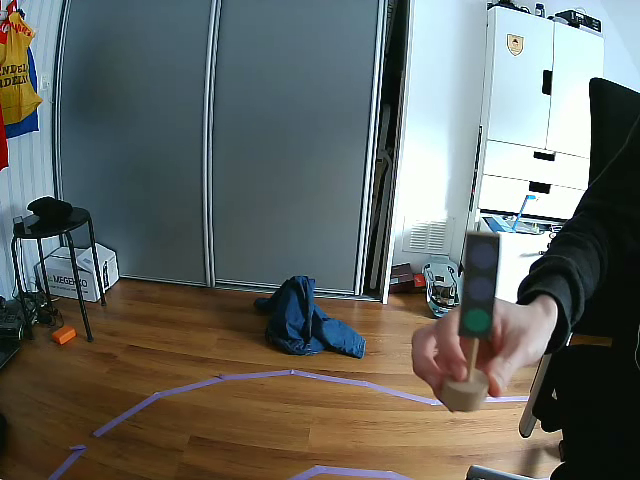groenlicht: (457, 234, 501, 338)
